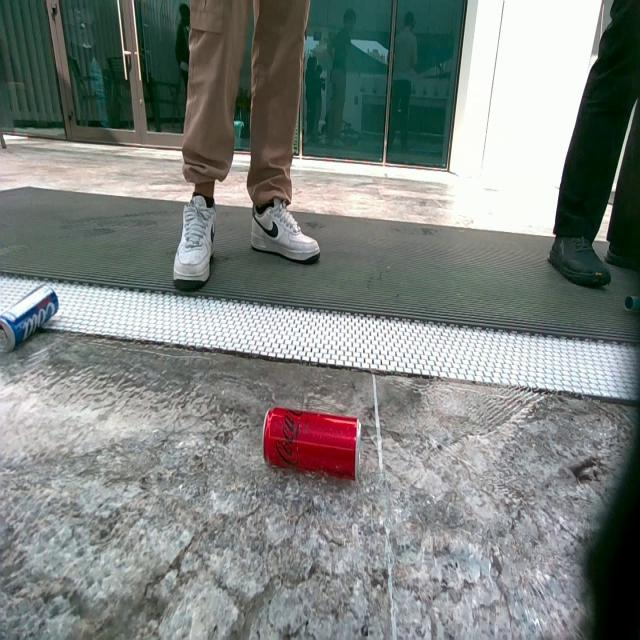Cans: (263, 407, 358, 482), (0, 280, 59, 360)
